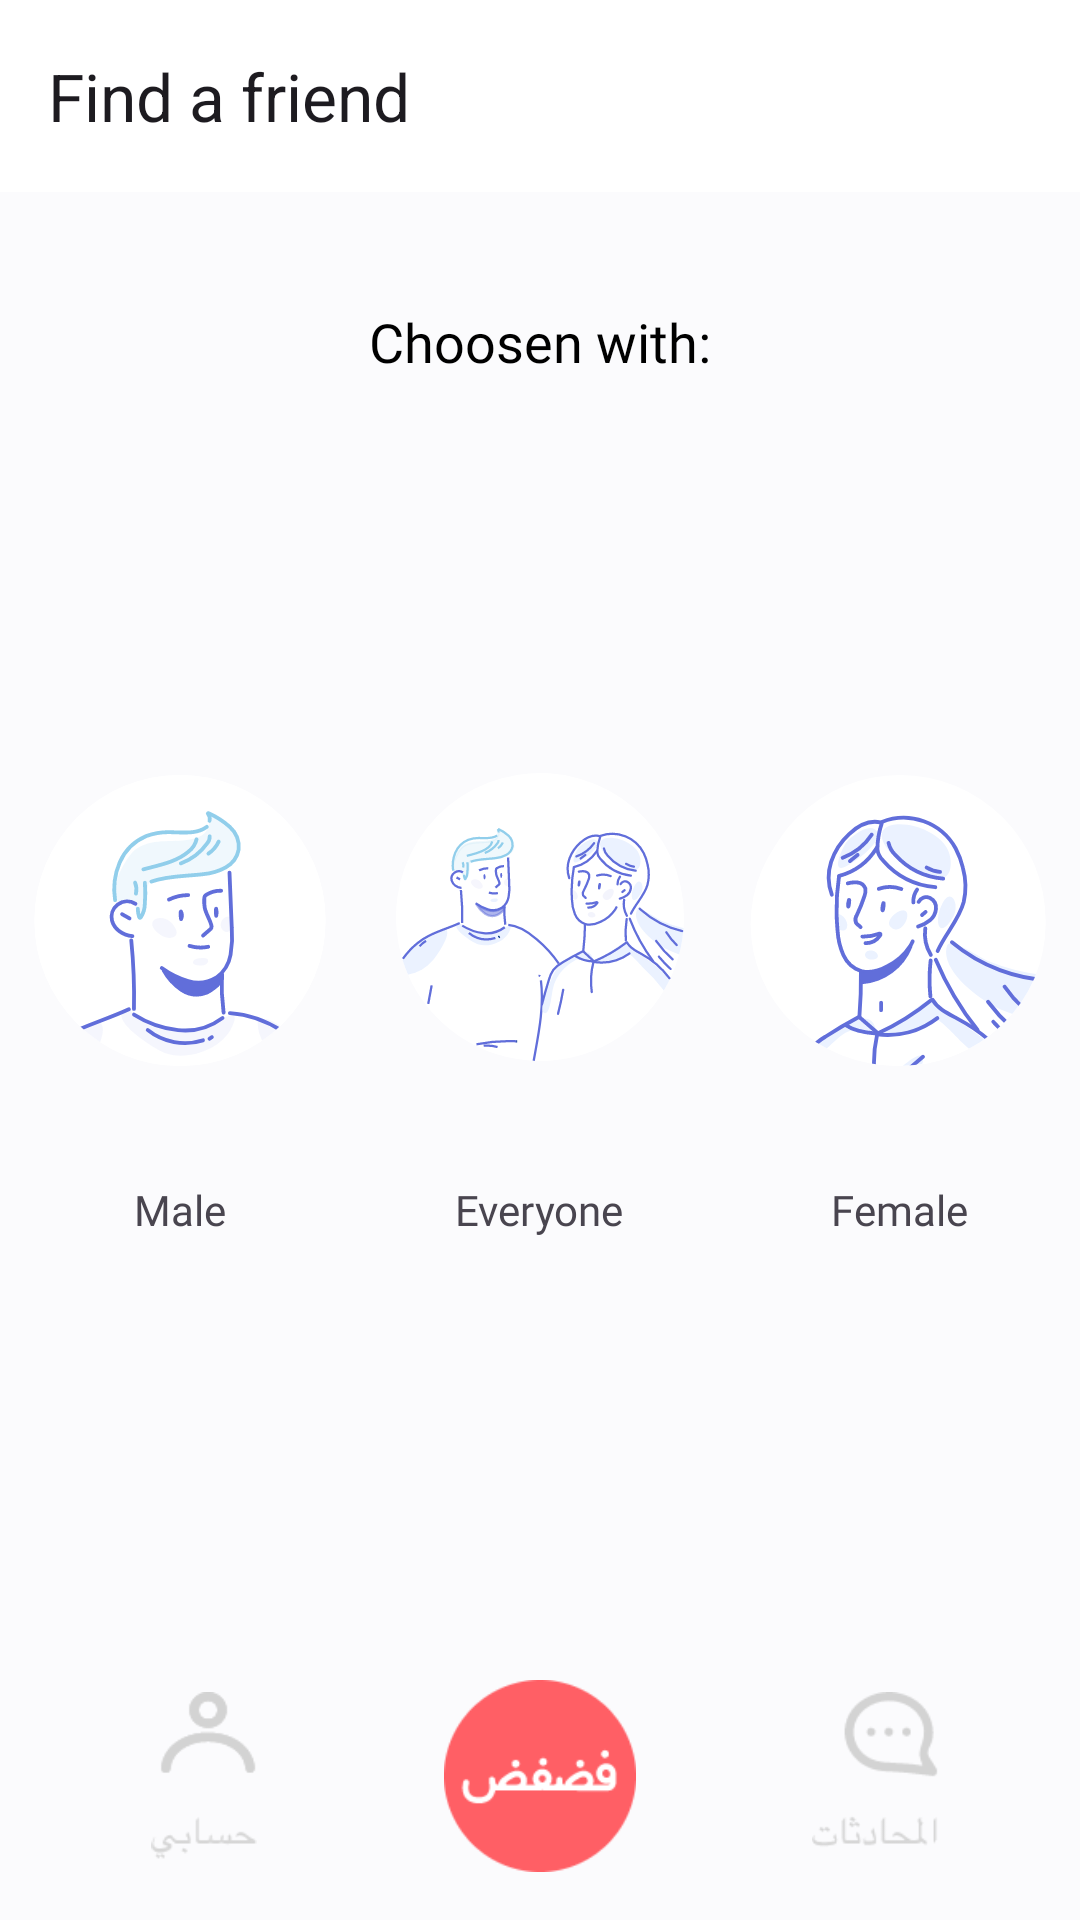

Named icons in this screenshot (1080x1920) and their bounding boxes, (x1, y1, x2, y2):
both gender: (402, 828, 683, 1061)
contact: (151, 1692, 255, 1858)
